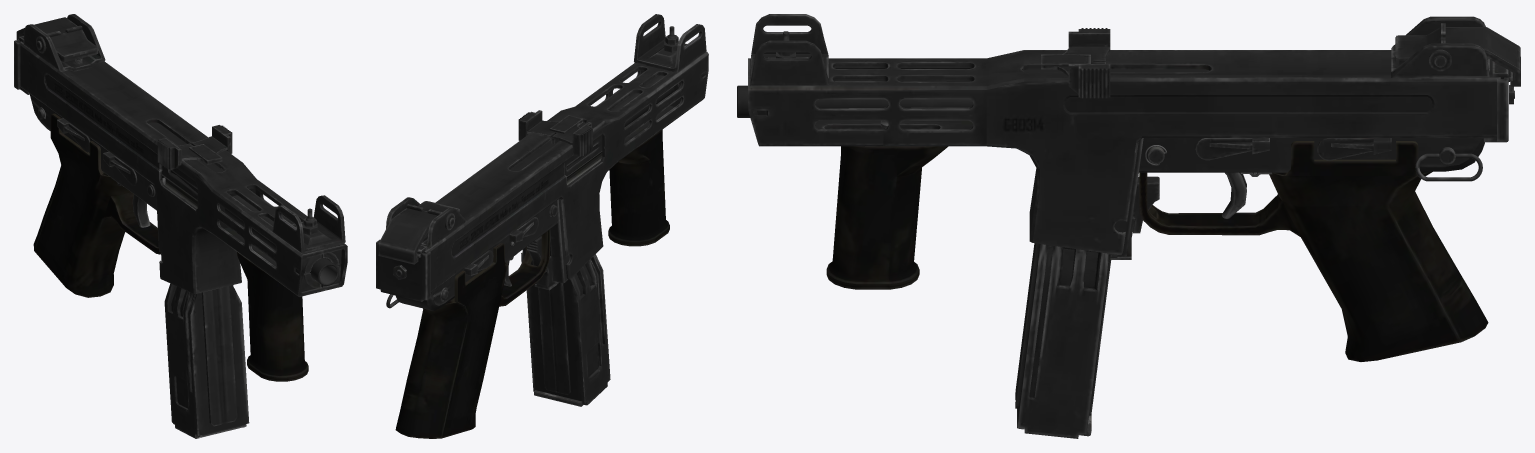
The model's file is sites_spectre_hc_9mm_low_poly.glb.
The picture shows the model from 3 angles, left to right: view 1: azimuth 30°, elevation 25°; view 2: azimuth 150°, elevation 25°; view 3: azimuth 270°, elevation 25°; orthographic projection. The views are drawn at different scales.
Visible parts, largest first — view 1: defaultMaterial (×16); view 2: defaultMaterial (×15); view 3: defaultMaterial (×15).
Part boxes in pixels (x1,y1,x2,y2): defaultMaterial (×16): [14, 14, 347, 438]; defaultMaterial (×15): [376, 14, 708, 438]; defaultMaterial (×15): [737, 14, 1520, 438].
Bounding box in the file's own units: 0.2552 × 1.11 × 2.
Materials: 1 (1 with a texture image).
